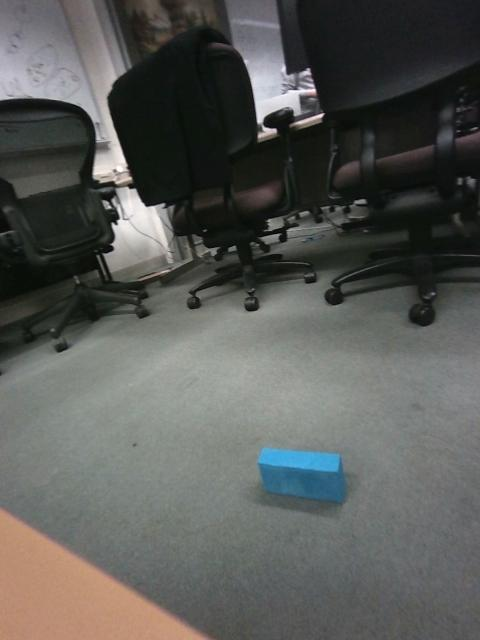block: (177, 277, 201, 302)
